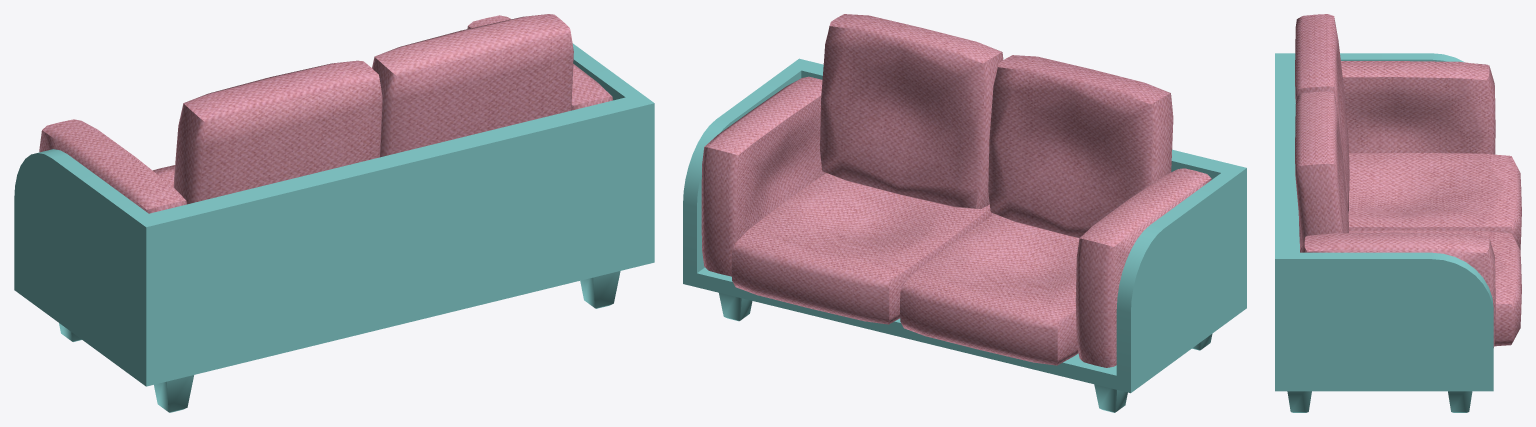
The model's file is furniture_seating_210072.glb.
The picture shows the model from 3 angles, left to right: view 1: azimuth 30°, elevation 25°; view 2: azimuth 150°, elevation 25°; view 3: azimuth 270°, elevation 25°; orthographic projection. The views are drawn at different scales.
Visible parts, largest first — view 1: furniture_seating_210072; view 2: furniture_seating_210072; view 3: furniture_seating_210072.
Boxes of the visible parts, left/top/right/bottom form: furniture_seating_210072: left=14, top=14, right=654, bottom=412; furniture_seating_210072: left=683, top=14, right=1246, bottom=412; furniture_seating_210072: left=1275, top=14, right=1521, bottom=412.
Bounding box in the file's own units: 1.61 × 0.8773 × 0.8179.
1 material, 1 textured.
